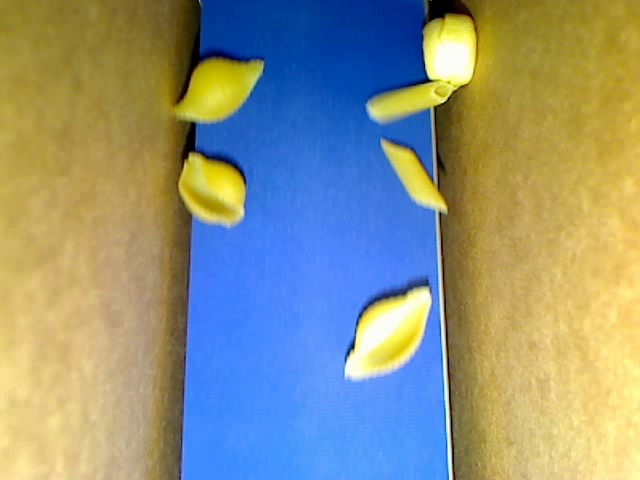penne: (379, 139, 448, 213), (365, 80, 453, 125)
shell: (344, 285, 433, 381), (172, 56, 264, 124), (179, 153, 247, 227)
